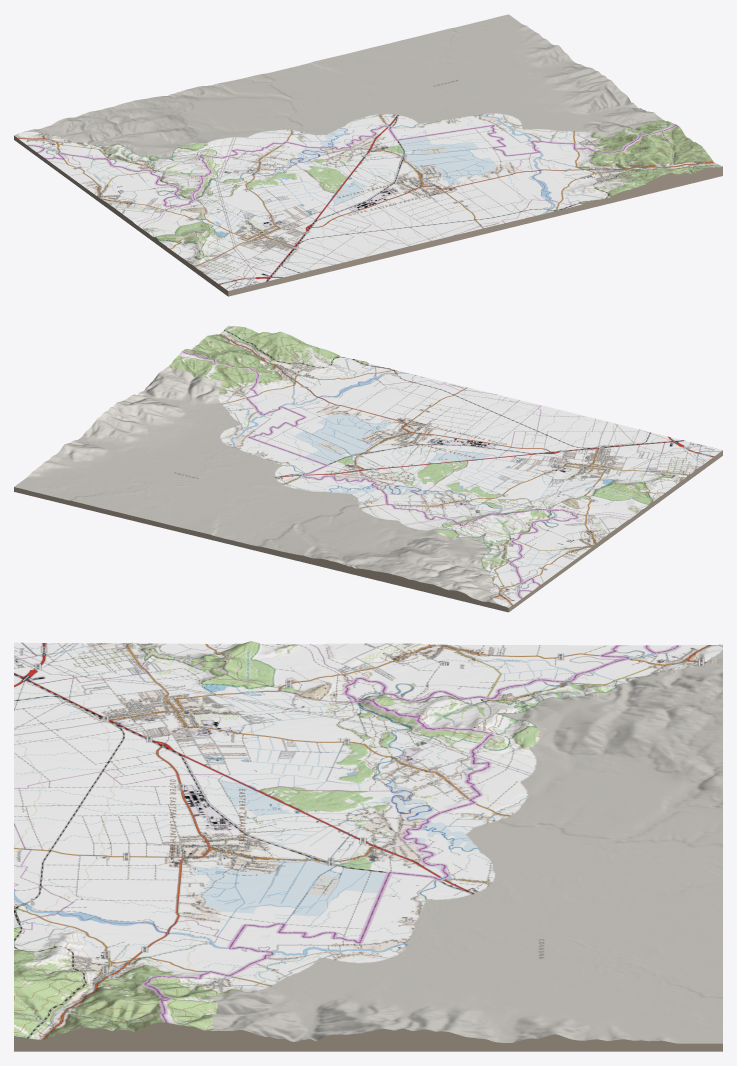
The picture shows the model from 3 angles, top to bottom: view 1: azimuth 30°, elevation 25°; view 2: azimuth 150°, elevation 25°; view 3: azimuth 270°, elevation 25°; orthographic projection. The views are drawn at different scales.
Visible parts, largest first — view 1: BV50-D5 Hărman; view 2: BV50-D5 Hărman; view 3: BV50-D5 Hărman.
Part boxes in pixels (left/top/right/bottom): BV50-D5 Hărman: left=14, top=14, right=722, bottom=296; BV50-D5 Hărman: left=14, top=325, right=722, bottom=612; BV50-D5 Hărman: left=14, top=641, right=722, bottom=1051.
Size of the model in its own units: 20000 by 677 by 15000.
Materials: 6 (1 with a texture image).
